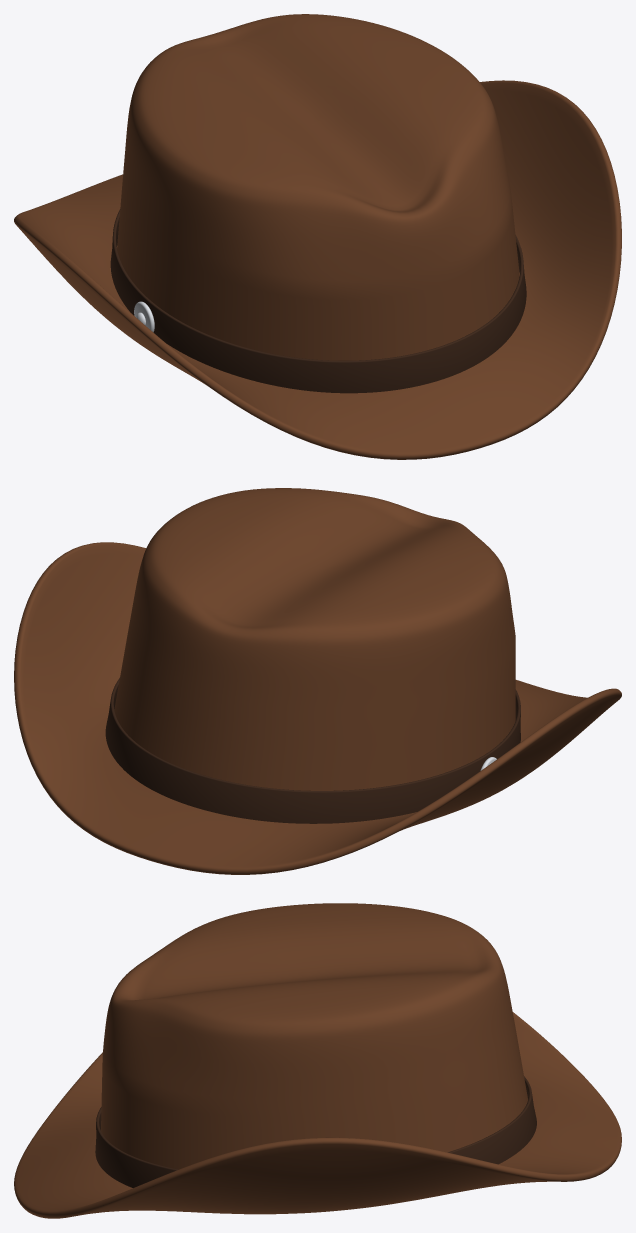
The model's file is cowboy-hat.glb.
3 views of the same model, one above another, from view 1: azimuth 30°, elevation 25°; view 2: azimuth 150°, elevation 25°; view 3: azimuth 270°, elevation 25° (orthographic). The views are drawn at different scales.
Parts seen in each view (by area): view 1: CowboyHat, Band; view 2: CowboyHat, Band; view 3: CowboyHat, Band.
Boxes of the visible parts, x1,y1,x2,y2 form: CowboyHat: (14, 14, 621, 459); Band: (110, 209, 526, 393); CowboyHat: (14, 488, 621, 874); Band: (105, 678, 520, 823); CowboyHat: (14, 903, 621, 1218); Band: (95, 1076, 536, 1187).
Bounding box in the file's own units: 1.49 × 0.6899 × 1.61.
